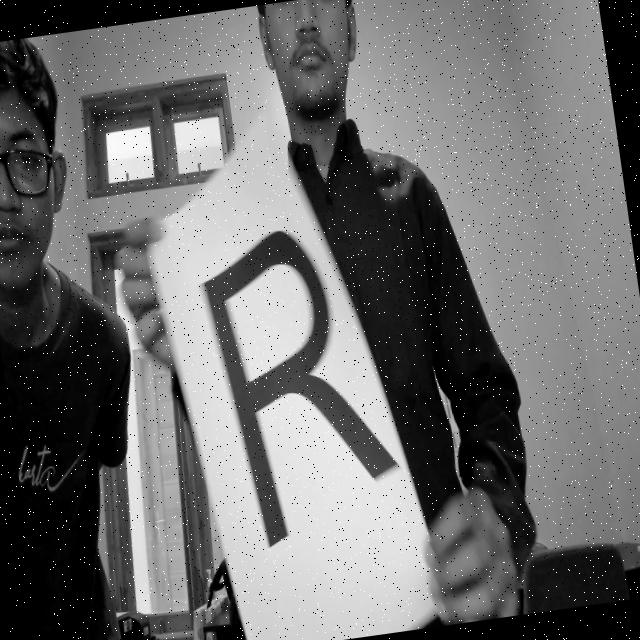r: (176, 196, 412, 569)
